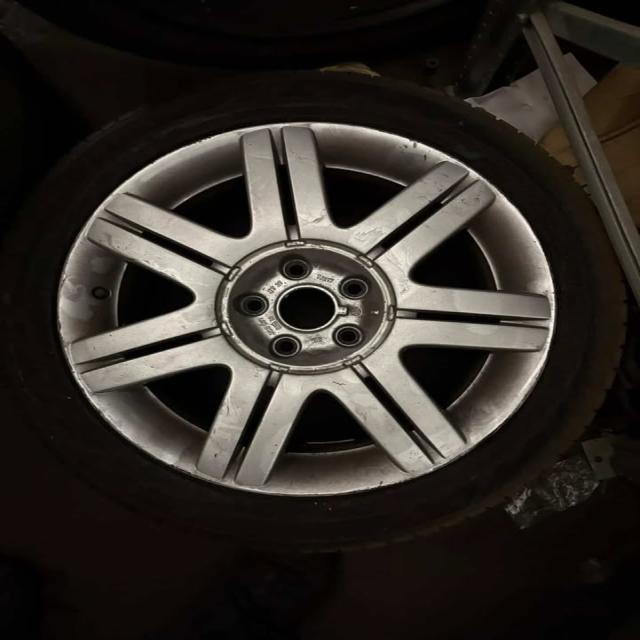jante: (59, 121, 558, 496)
roda: (0, 74, 629, 555)
